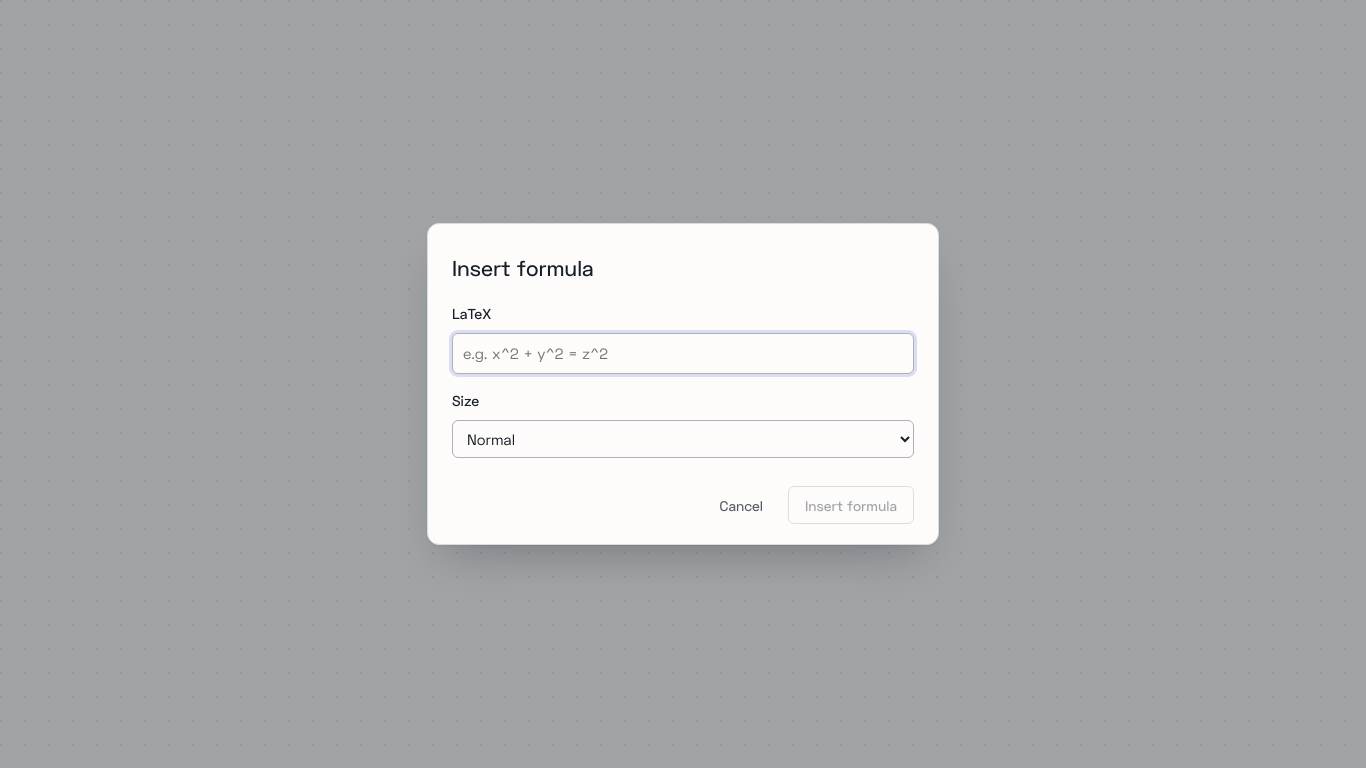
Test case: FormulaDialog › shows a server error and stays open after a 400
Type "x^" into the field labelled "LaTeX" at (683, 354), box [452,333,914,374]
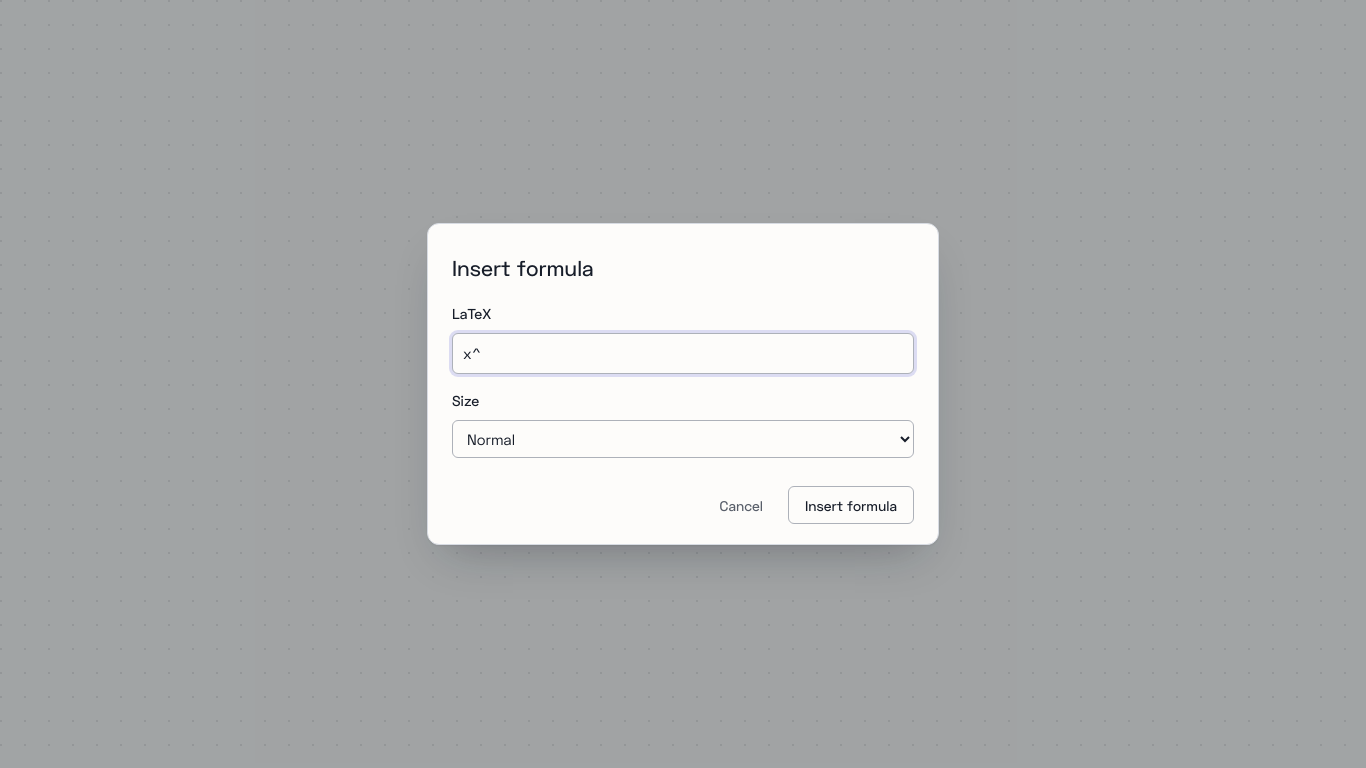
Click the button "Insert formula" at (851, 506), box [788,486,914,524]
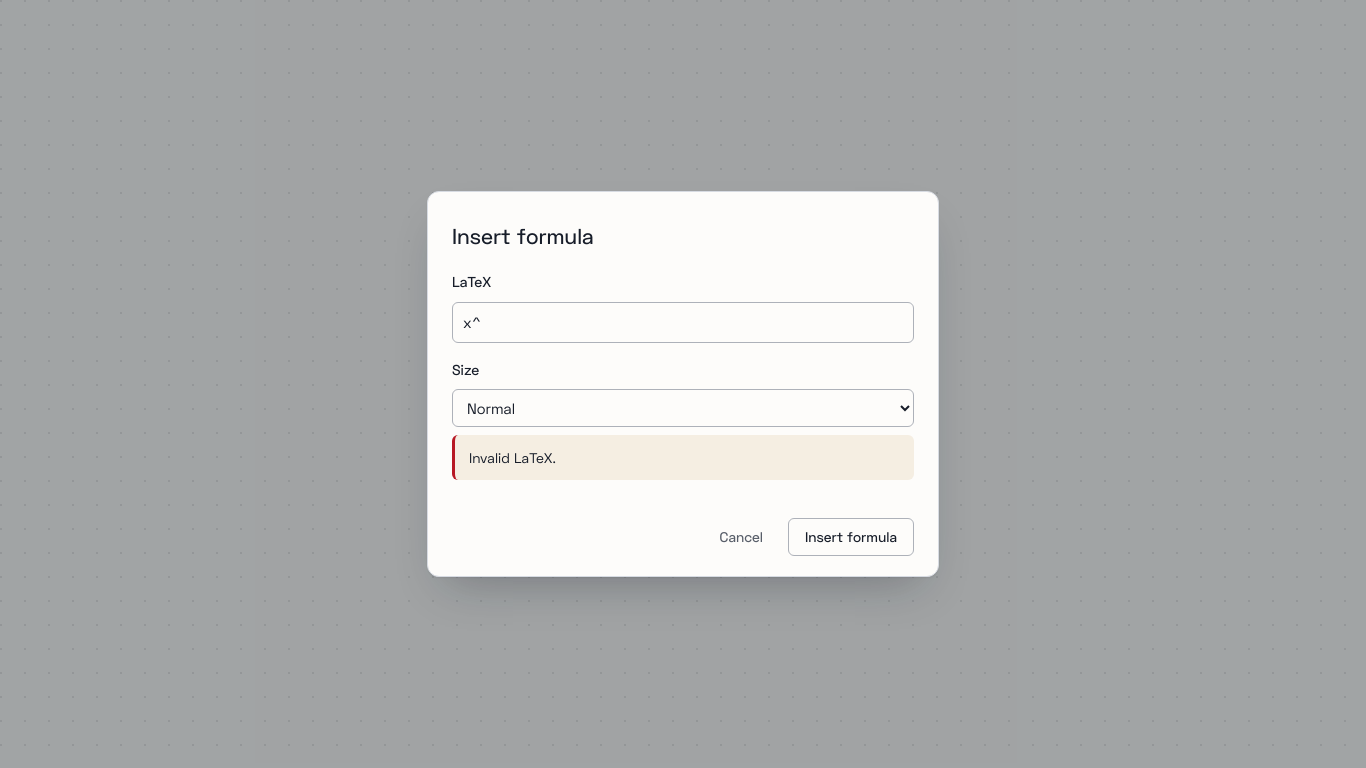
Check: the message reads "Invalid LaTeX.", box [469,449,556,466]
